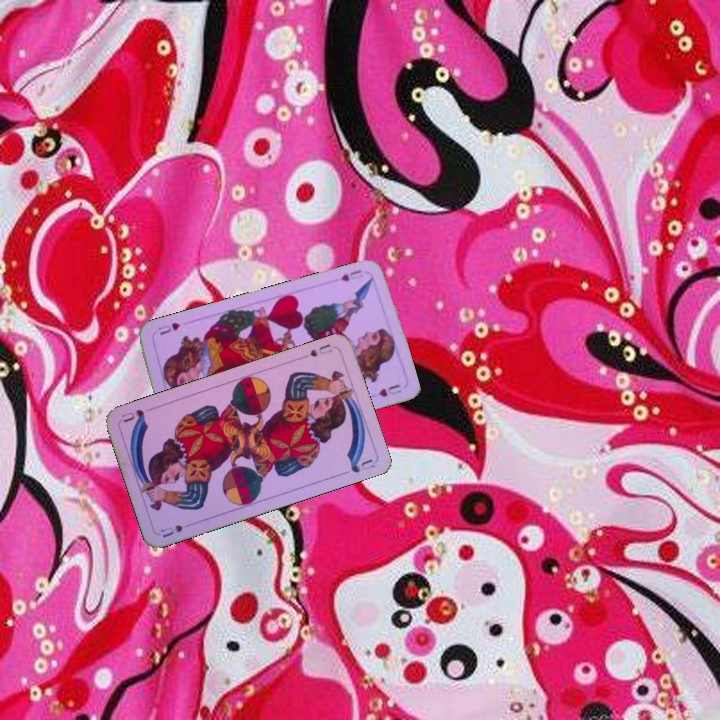HU: (337, 265, 366, 284)
SU: (156, 518, 196, 540), (306, 340, 335, 359)
